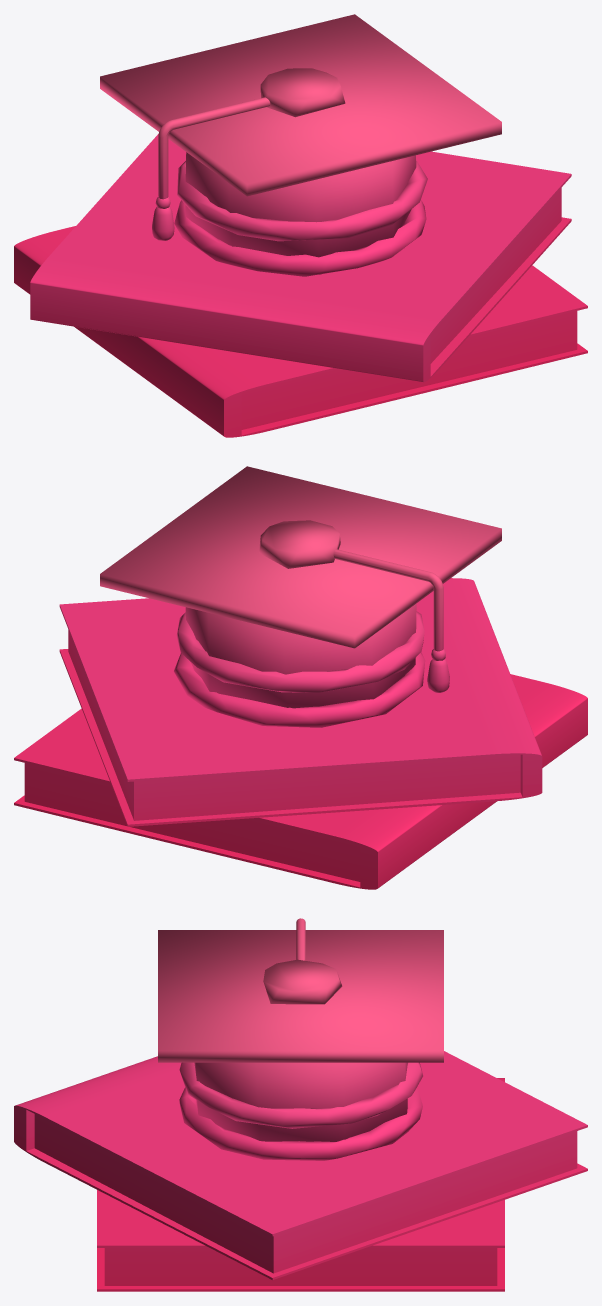
The model's file is school.glb.
3 views of the same model, one above another, from view 1: azimuth 30°, elevation 25°; view 2: azimuth 150°, elevation 25°; view 3: azimuth 270°, elevation 25° (orthographic). The views are drawn at different scales.
Parts seen in each view (by area): view 1: Torus; view 2: Torus; view 3: Torus.
Boxes of the visible parts, bbox=[...] form: Torus: bbox=[14, 14, 587, 437]; Torus: bbox=[14, 466, 587, 889]; Torus: bbox=[14, 918, 587, 1291].
Bounding box in the file's own units: 2.81 × 1.24 × 2.81.
1 material, 1 textured.
